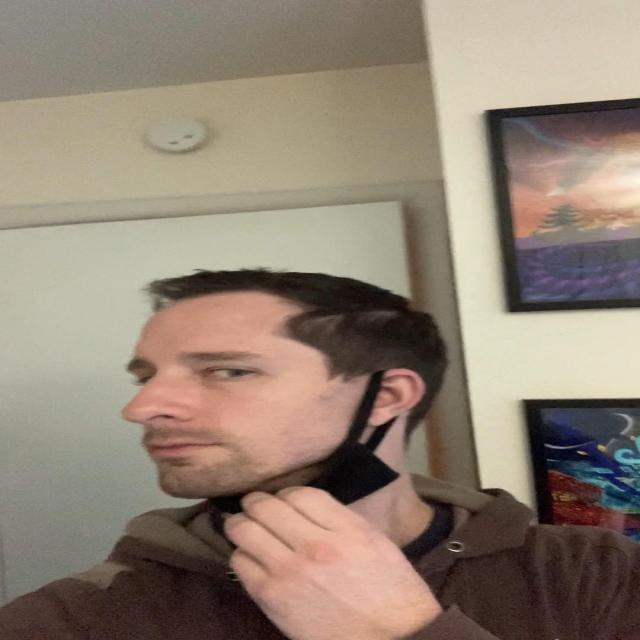no-helmet: (114, 285, 418, 513)
